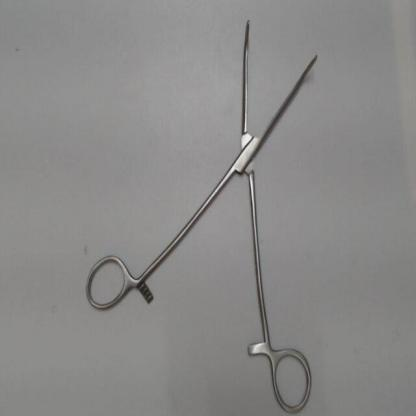Lahey Forceps: (78, 14, 323, 416)
